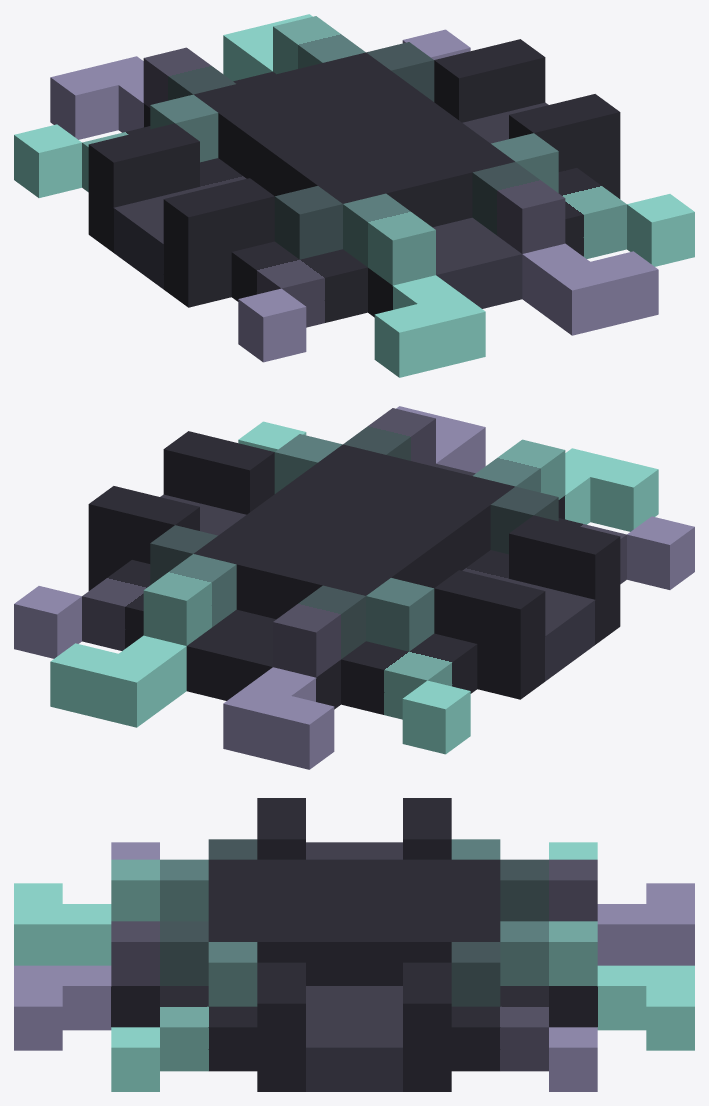
The model's file is can_frosty-7.fbx.
The picture shows the model from 3 angles, top to bottom: view 1: azimuth 30°, elevation 25°; view 2: azimuth 150°, elevation 25°; view 3: azimuth 270°, elevation 25°; orthographic projection. The views are drawn at different scales.
Visible parts, largest first — view 1: can_frosty-7.001; view 2: can_frosty-7.001; view 3: can_frosty-7.001.
Part boxes in pixels (x1=…): can_frosty-7.001: x1=14, y1=14, x2=694, y2=377; can_frosty-7.001: x1=14, y1=406, x2=694, y2=769; can_frosty-7.001: x1=14, y1=798, x2=694, y2=1091.
Size of the model in its own units: 1 by 0.2 by 1.4.
1 material, 1 textured.
